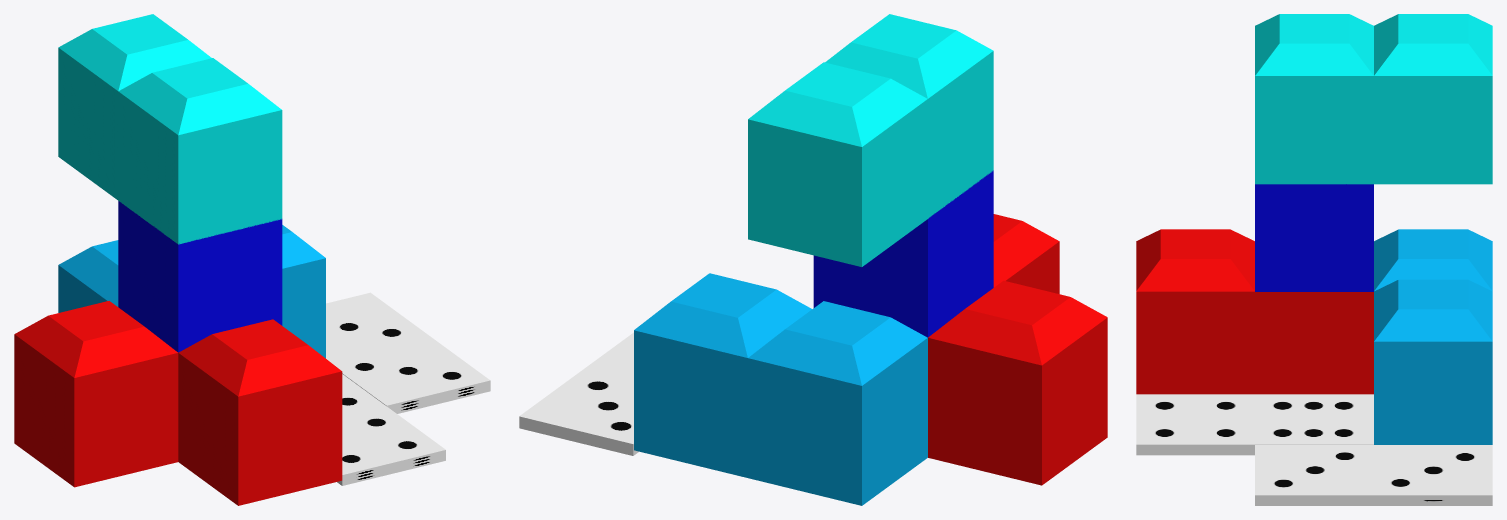
The model's file is blocks_6.glb.
The picture shows the model from 3 angles, left to right: view 1: azimuth 30°, elevation 25°; view 2: azimuth 150°, elevation 25°; view 3: azimuth 270°, elevation 25°; orthographic projection. The views are drawn at different scales.
Visible parts, largest first — view 1: Cube.009, Cube.002, Cube.007, Cube.010, Cube.008, Cube.006, Cube.019, Cube.012, Cube.016, Cube.001, Cube.004; view 2: Cube.008, Cube.001, Cube.009, Cube.012, Cube.007, Cube.010, Cube.016, Cube.002, Cube.006; view 3: Cube.008, Cube.007, Cube.002, Cube.012, Cube.010, Cube.003, Cube.019, Cube.006, Cube.016, Cube.004, Cube.001.
Boxes of the visible parts, x1=… form: Cube.009: x1=14, y1=301, x2=178, y2=487; Cube.002: x1=178, y1=319, x2=342, y2=505; Cube.007: x1=118, y1=58, x2=282, y2=244; Cube.010: x1=118, y1=201, x2=282, y2=352; Cube.008: x1=58, y1=14, x2=211, y2=200; Cube.006: x1=329, y1=336, x2=490, y2=413; Cube.019: x1=337, y1=406, x2=445, y2=485; Cube.012: x1=282, y1=225, x2=325, y2=358; Cube.016: x1=326, y1=292, x2=430, y2=361; Cube.001: x1=58, y1=240, x2=118, y2=312; Cube.004: x1=342, y1=374, x2=385, y2=416; Cube.008: x1=748, y1=62, x2=927, y2=266; Cube.001: x1=748, y1=301, x2=927, y2=505; Cube.009: x1=928, y1=280, x2=1107, y2=485; Cube.012: x1=634, y1=273, x2=811, y2=477; Cube.007: x1=825, y1=14, x2=993, y2=218; Cube.010: x1=813, y1=170, x2=993, y2=337; Cube.016: x1=519, y1=368, x2=638, y2=455; Cube.002: x1=993, y1=214, x2=1059, y2=293; Cube.006: x1=585, y1=332, x2=633, y2=379; Cube.008: x1=1374, y1=14, x2=1492, y2=184; Cube.007: x1=1255, y1=14, x2=1373, y2=184; Cube.002: x1=1136, y1=229, x2=1254, y2=394; Cube.012: x1=1374, y1=279, x2=1492, y2=444; Cube.010: x1=1255, y1=184, x2=1373, y2=291; Cube.003: x1=1255, y1=292, x2=1373, y2=394; Cube.019: x1=1136, y1=394, x2=1254, y2=455; Cube.006: x1=1255, y1=445, x2=1373, y2=505; Cube.016: x1=1374, y1=445, x2=1492, y2=505; Cube.004: x1=1255, y1=394, x2=1373, y2=444; Cube.001: x1=1374, y1=229, x2=1492, y2=291.
Size of the model in its own units: 8.01 by 6.52 by 6.
Materials: 10 (2 with a texture image).
